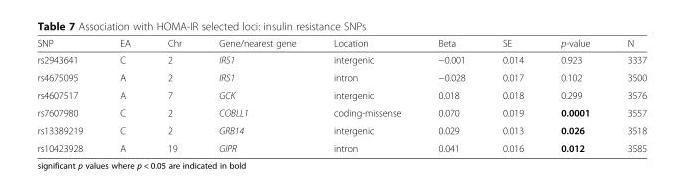table: (36, 37, 646, 153)
table column: (199, 37, 314, 153), (314, 37, 419, 153), (541, 37, 608, 153), (36, 37, 100, 153), (419, 37, 483, 153), (483, 37, 541, 153), (148, 37, 199, 153), (100, 37, 148, 153), (608, 37, 646, 153)
table column header: (36, 37, 646, 50)
table row: (36, 50, 646, 68), (36, 85, 646, 103), (36, 103, 646, 121), (36, 68, 646, 85), (36, 121, 646, 138), (36, 138, 646, 153), (36, 37, 646, 50)
